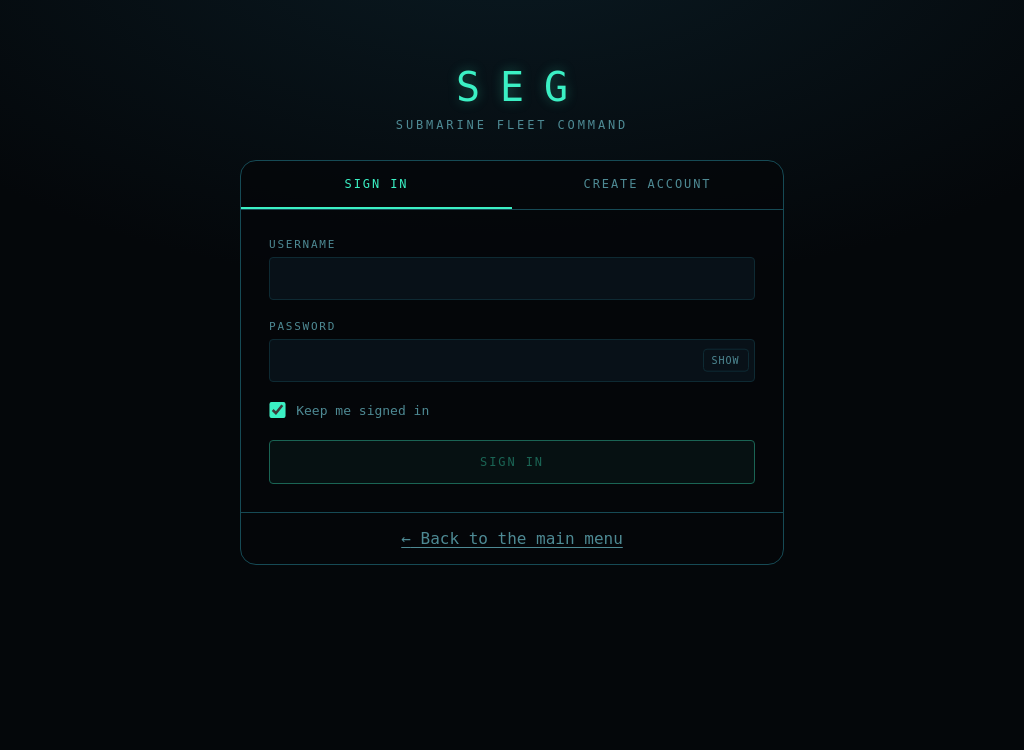
Test: sign-up form › states the minimum password length before anything is typed
The image size is (1024, 750).
Click the tab "CREATE ACCOUNT" at [648, 185], box [512,161,783,209]
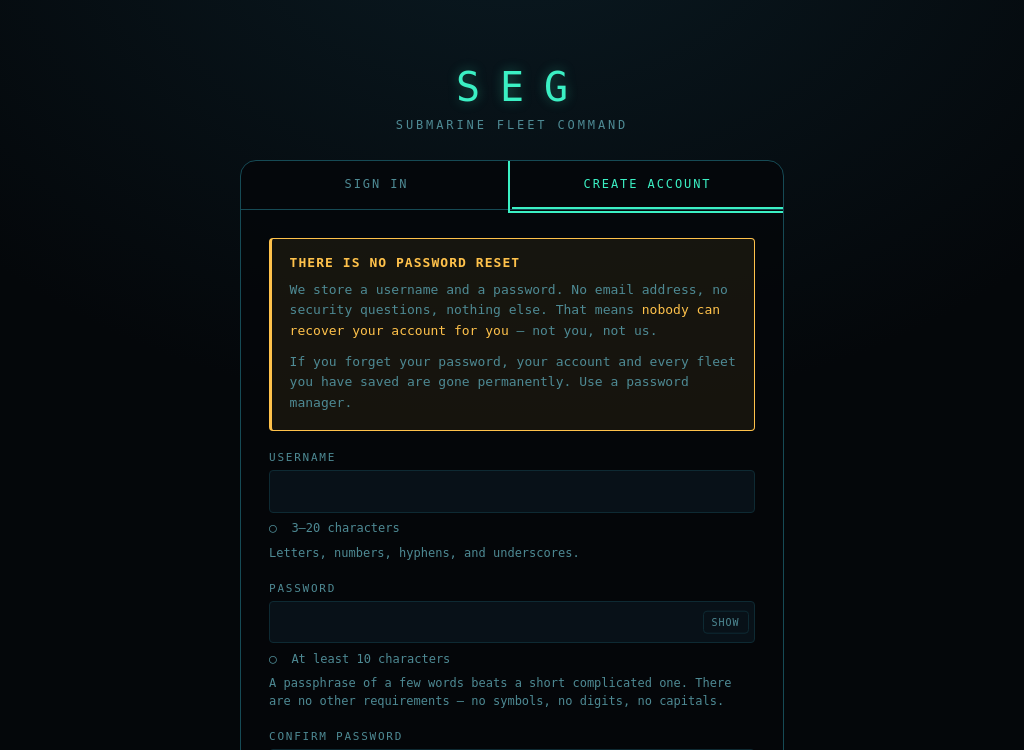
expect the list item "At least 10 characters" is shown: met, box [291,652,450,666]
